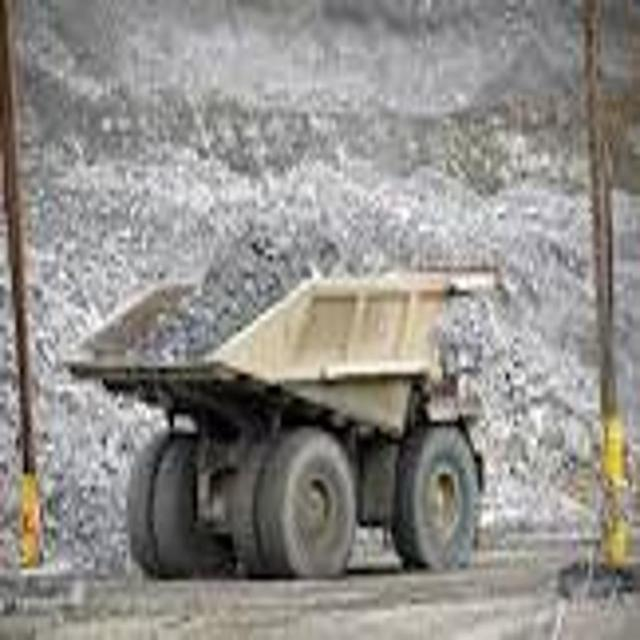dump_truck: (59, 222, 501, 581)
